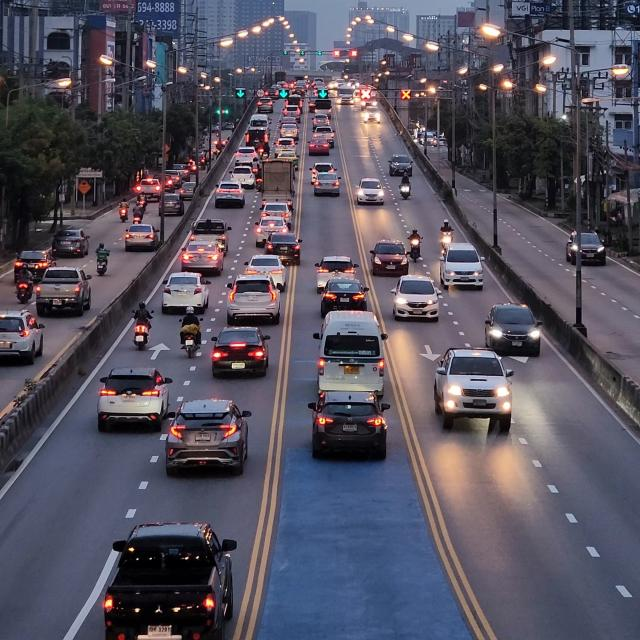Car: (101, 519, 243, 640), (308, 306, 396, 396), (163, 396, 252, 482), (430, 345, 516, 433), (308, 381, 391, 463), (98, 367, 174, 430), (210, 329, 276, 380), (490, 298, 544, 356), (226, 273, 286, 323), (438, 243, 493, 293), (35, 266, 94, 311), (313, 276, 377, 316), (393, 274, 445, 323), (163, 271, 214, 314), (367, 237, 414, 279)
